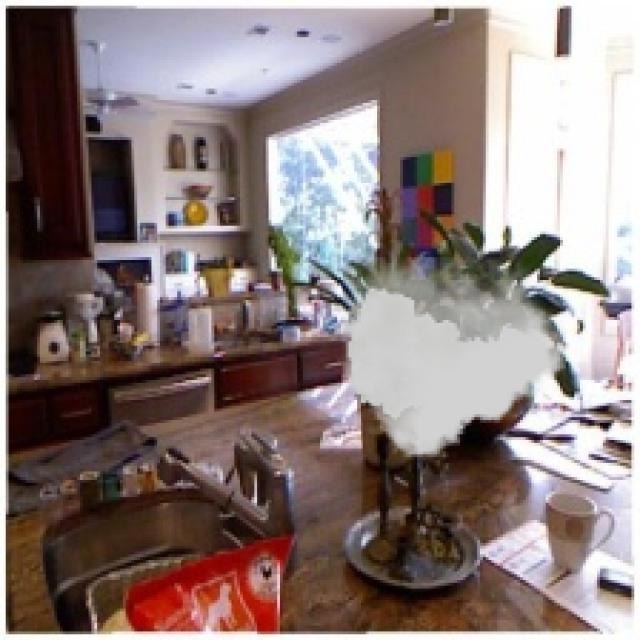smoke: (337, 257, 566, 457)
